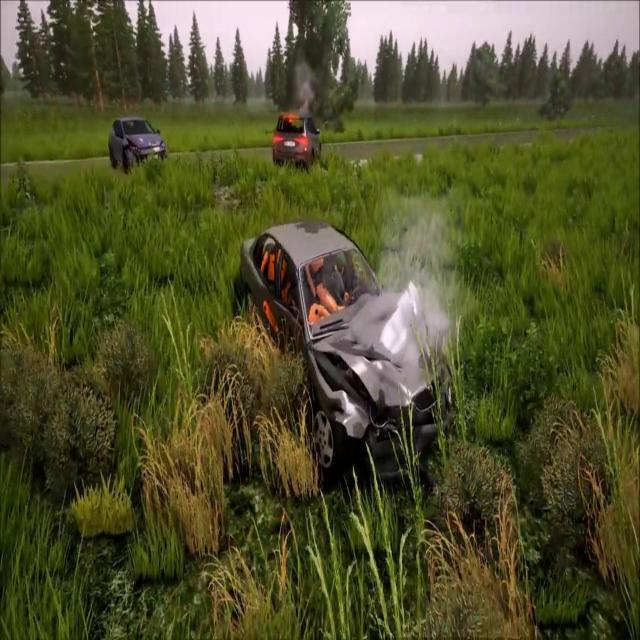accident: (228, 209, 470, 492)
